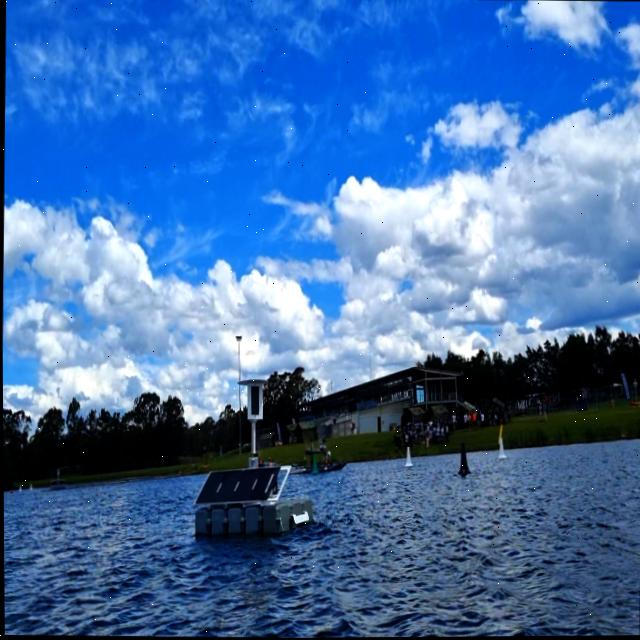led: (246, 383, 261, 418)
